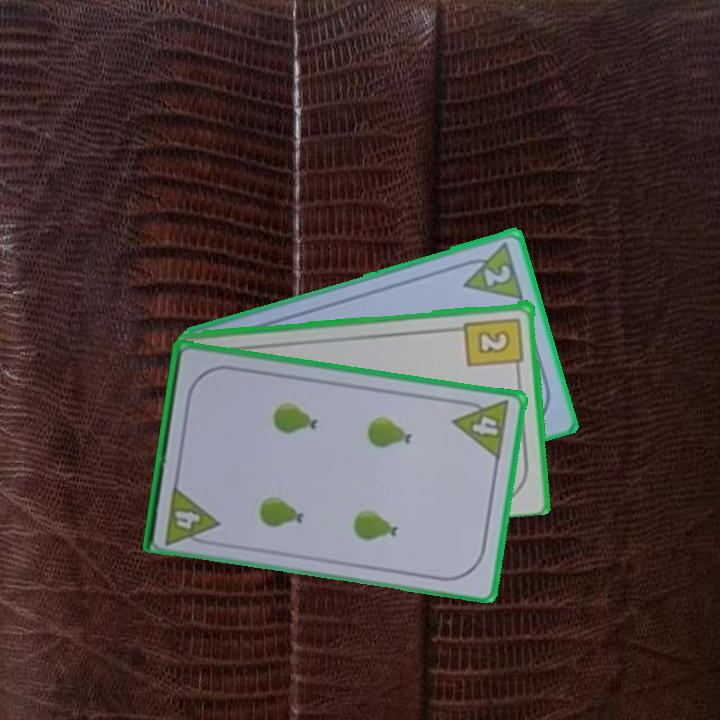2b: (462, 313, 526, 375)
2p: (455, 238, 527, 302)
4p: (449, 395, 512, 462), (161, 481, 222, 548)
